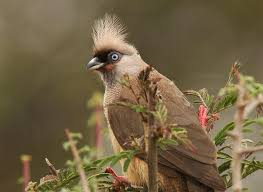target: (85, 11, 227, 192)
